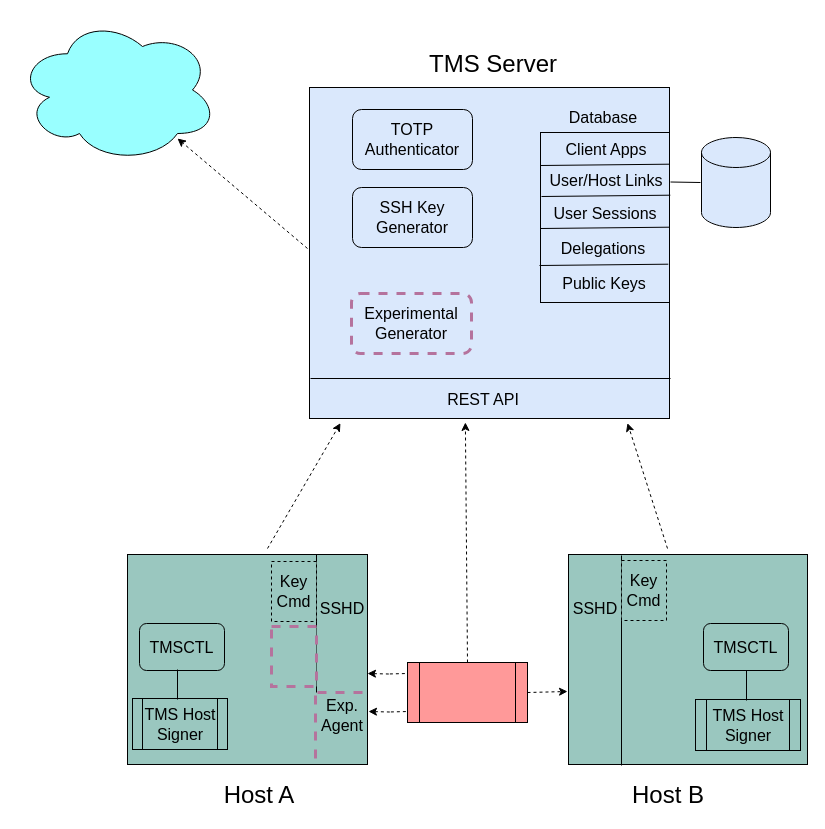
The diagram is 825 pixels wide and 829 high, and some of its shapes have lost their labels. The box of each missing label's shape, as (x1, y1, x2, y2) in pixels:
Applications: (406, 662, 528, 722)
DB Storage: (700, 136, 770, 228)
Exp. MOD: (270, 624, 318, 688)
Federated and Non-Federated IDPs: (16, 16, 218, 162)
